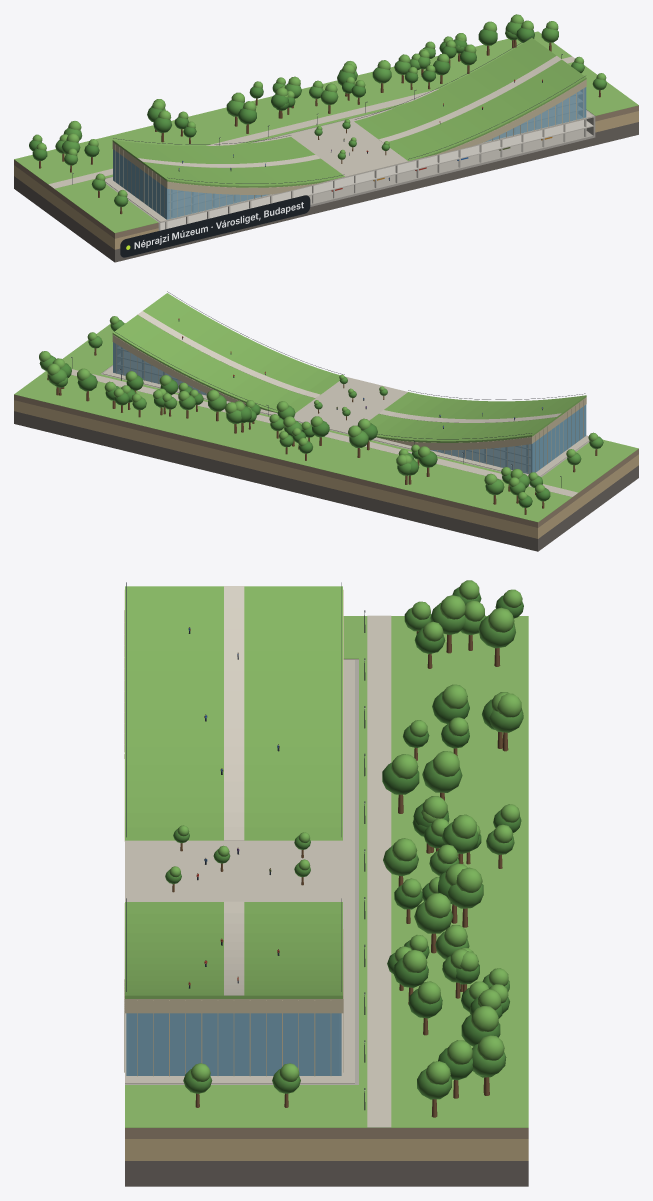
The model's file is bim-epitkezes.glb.
3 views of the same model, one above another, from view 1: azimuth 30°, elevation 25°; view 2: azimuth 150°, elevation 25°; view 3: azimuth 270°, elevation 25° (orthographic). The views are drawn at different scales.
Parts seen in each view (by area): view 1: teto_m_86b862 (×2), liget_m_8fbf6a, ter_m_cfc9bb, liget_m_77706a, homl_m_7fb0c8_t (×2), pince_m_d5d1c8, nevtabla, liget_m_4f8a40, godor_m_b9b5ad, liget_m_74ad55, homl_m_cfc3a4 (×2), liget_m_5a9647 (+6 smaller); view 2: liget_m_8fbf6a, teto_m_86b862 (×2), liget_m_77706a, liget_m_c9b48c, ter_m_cfc9bb, homl_m_7fb0c8_t (×2), liget_m_74ad55, liget_m_a08d77, liget_m_5a9647, homl_m_cfc3a4 (×2), liget_m_4f8a40, teto_m_d9d3c5 (×2) (+3 smaller); view 3: teto_m_86b862 (×2), liget_m_8fbf6a, ter_m_cfc9bb, liget_m_74ad55, homl_m_7fb0c8_t, liget_m_d3cdbf, liget_m_77706a, liget_m_5a9647, liget_m_c9b48c, liget_m_4f8a40, teto_m_d9d3c5 (×2), homl_m_cfc3a4 (+3 smaller).
Boxes of the visible parts, x1,y1,x2,y2 form: teto_m_86b862 (×2): (112, 38, 586, 187); liget_m_8fbf6a: (14, 31, 638, 233); ter_m_cfc9bb: (105, 109, 593, 222); liget_m_77706a: (14, 122, 638, 262); homl_m_7fb0c8_t (×2): (113, 87, 586, 219); pince_m_d5d1c8: (160, 116, 593, 230); nevtabla: (120, 195, 310, 257); liget_m_4f8a40: (29, 27, 534, 160); godor_m_b9b5ad: (105, 108, 595, 230); liget_m_74ad55: (32, 14, 606, 196); homl_m_cfc3a4 (×2): (112, 79, 586, 218); liget_m_5a9647: (55, 21, 606, 207); liget_m_8fbf6a: (14, 323, 638, 522); teto_m_86b862 (×2): (112, 293, 586, 442); liget_m_77706a: (14, 411, 638, 551); liget_m_c9b48c: (14, 400, 638, 538); ter_m_cfc9bb: (103, 366, 589, 476); homl_m_7fb0c8_t (×2): (113, 342, 586, 473); liget_m_74ad55: (39, 316, 598, 500); liget_m_a08d77: (14, 394, 638, 527); liget_m_5a9647: (39, 319, 603, 495); homl_m_cfc3a4 (×2): (112, 335, 586, 474); liget_m_4f8a40: (61, 363, 550, 507); teto_m_d9d3c5 (×2): (137, 311, 561, 422); teto_m_86b862 (×2): (125, 586, 342, 998); liget_m_8fbf6a: (125, 616, 528, 1127); ter_m_cfc9bb: (125, 660, 354, 1083); liget_m_74ad55: (190, 580, 522, 1084); homl_m_7fb0c8_t: (126, 1013, 341, 1075); liget_m_d3cdbf: (367, 615, 391, 1127); liget_m_77706a: (125, 1161, 528, 1186); liget_m_5a9647: (183, 603, 523, 1099); liget_m_c9b48c: (125, 1139, 528, 1160); liget_m_4f8a40: (382, 587, 523, 1080); teto_m_d9d3c5 (×2): (224, 586, 244, 995); homl_m_cfc3a4: (124, 903, 343, 1076).
Size of the model in its own units: 0.625 by 0.0819 by 0.2087.
Materials: 42 (1 with a texture image).
